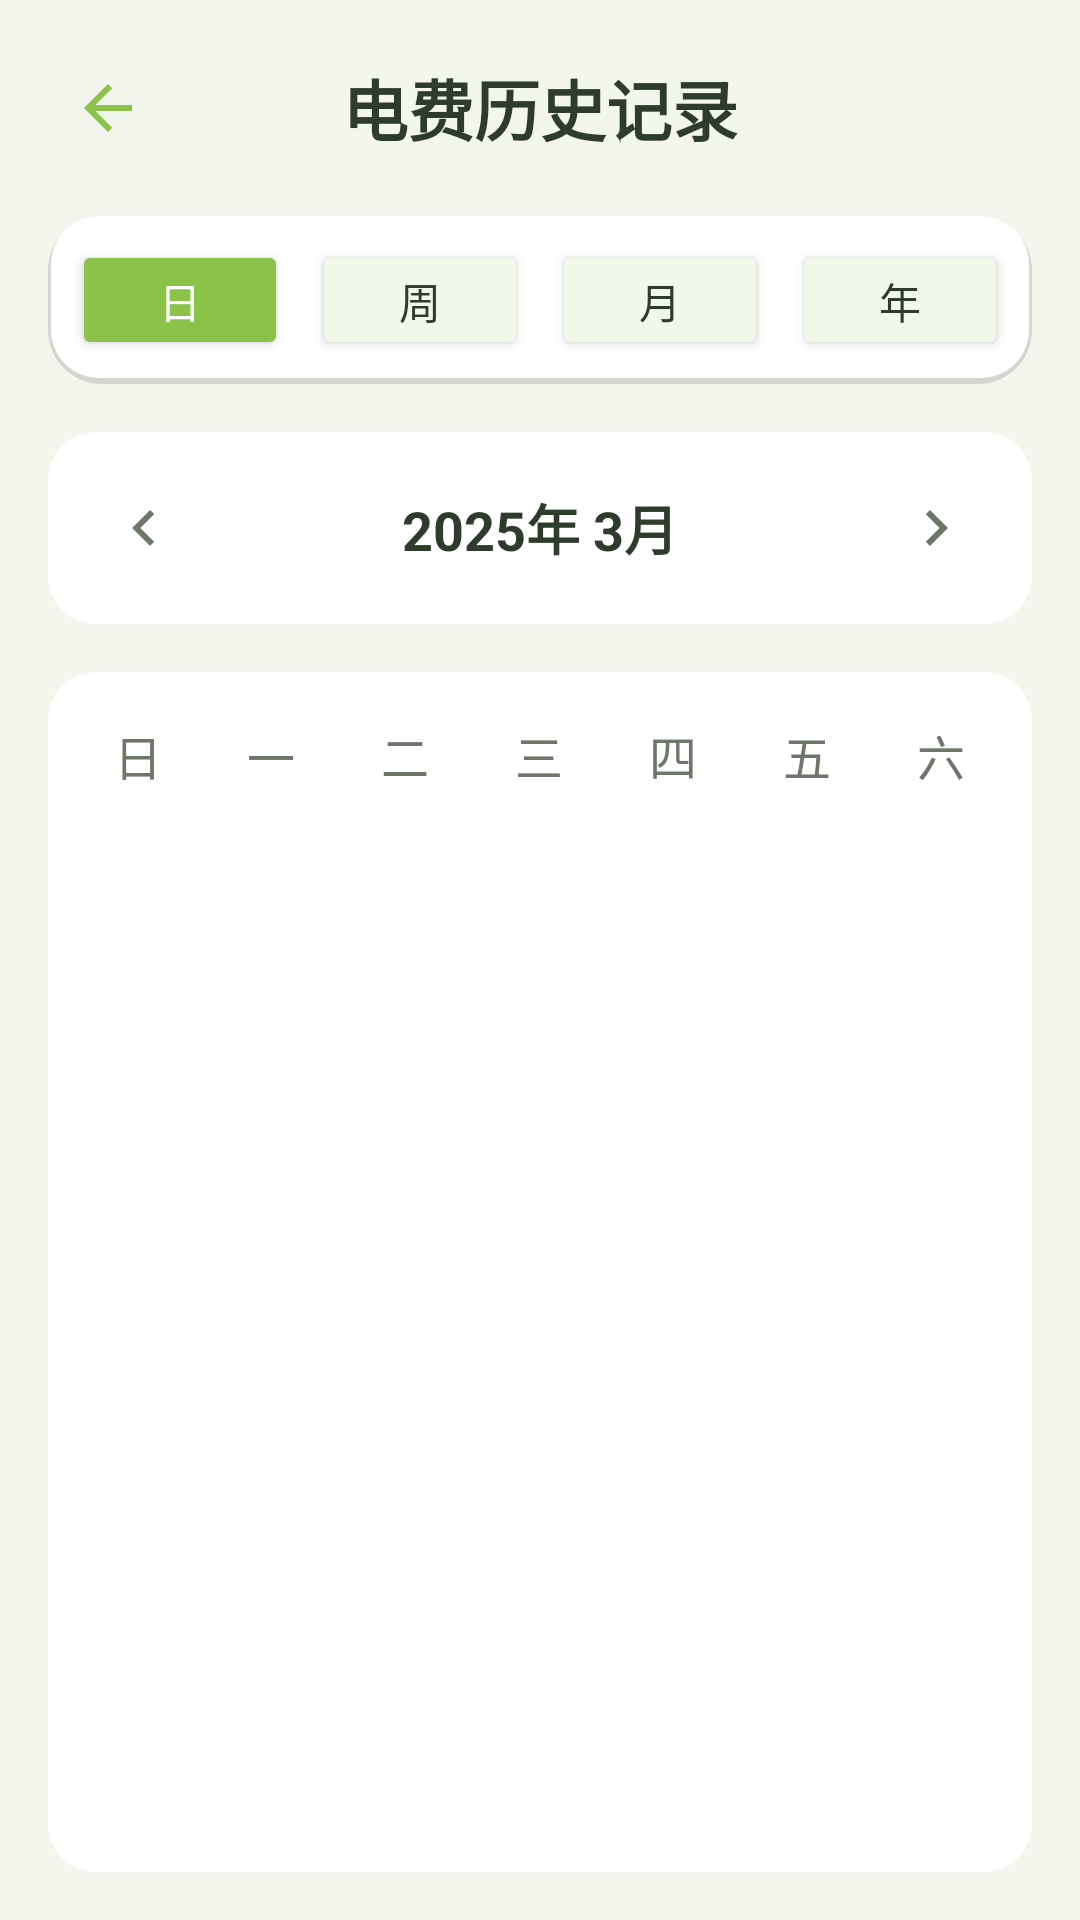

Locate icon controls on the screen. Image size 1080px x 1920px, boxes as (x1, y1, x2, y2).
上个月: (132, 510, 154, 546)
下个月: (926, 510, 948, 546)
返回: (84, 84, 132, 132)
